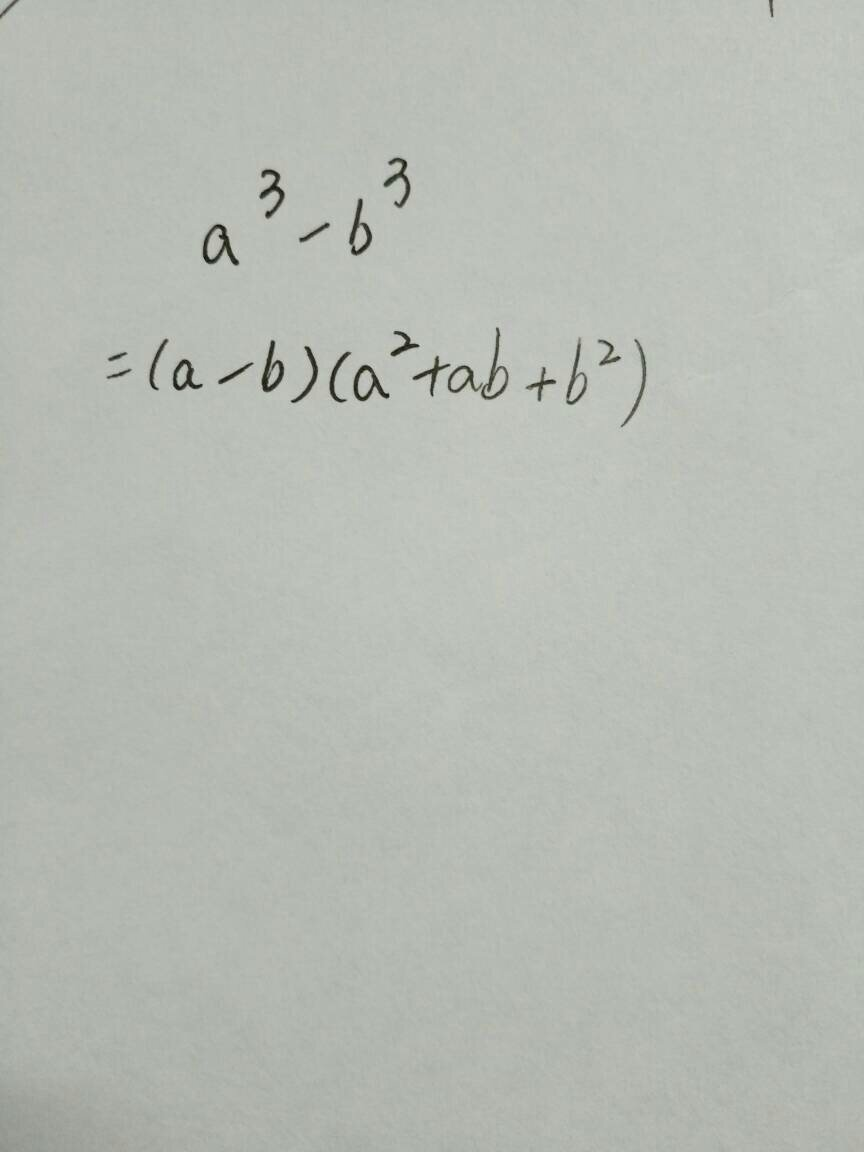cube: (376, 153, 424, 212), (257, 161, 294, 231)
square: (592, 328, 623, 375), (388, 325, 419, 359)
